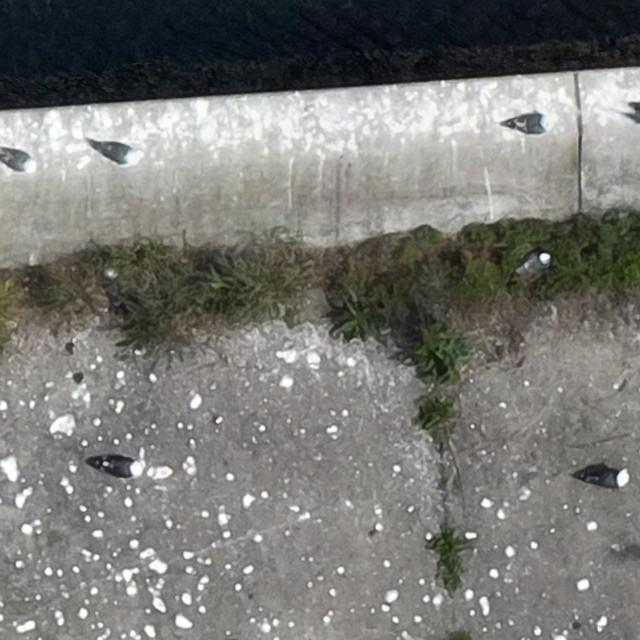umineko: (100, 144, 136, 164), (2, 151, 34, 172), (104, 460, 140, 478), (586, 471, 624, 488), (512, 116, 545, 133), (519, 253, 546, 272), (624, 108, 639, 125)
